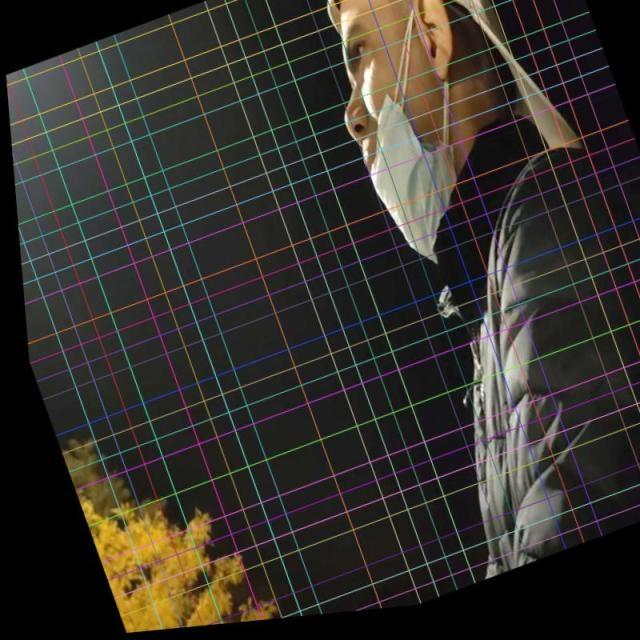hairnet: (312, 10, 458, 271)
